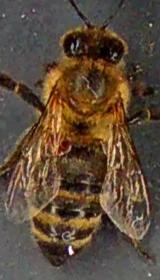varroa_mite: (46, 136, 78, 156)
